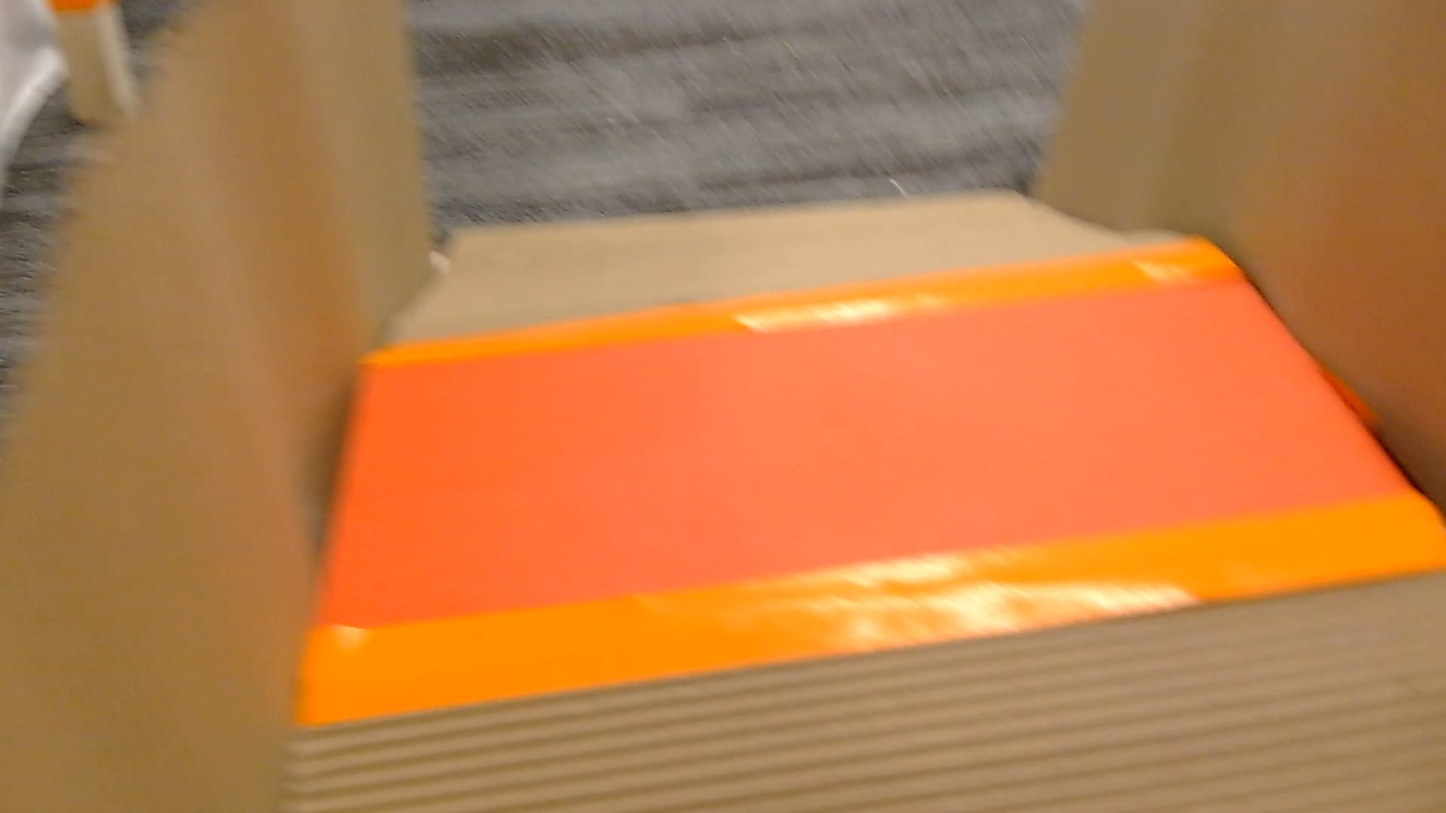Ramp: (0, 0, 1445, 812)
Wooden Block: (53, 0, 138, 125)
